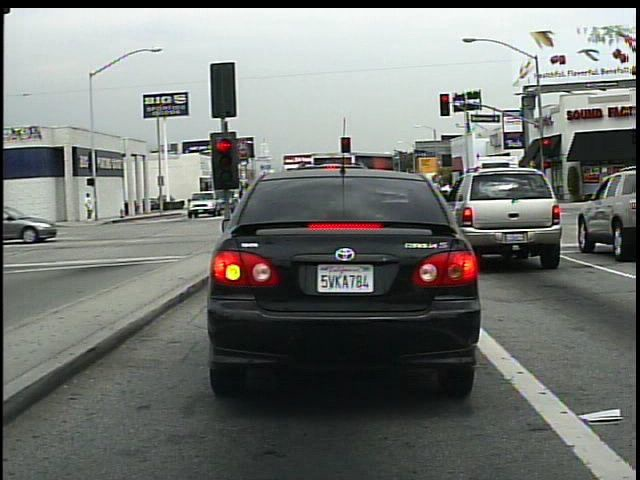person: (82, 191, 96, 223)
